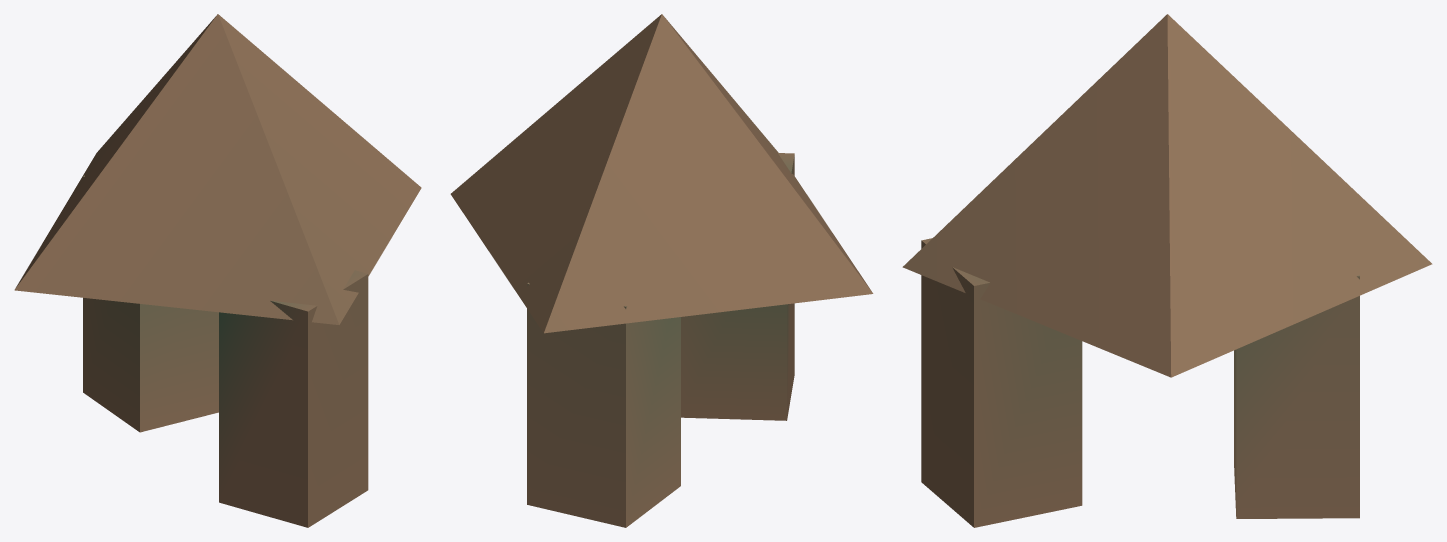
The picture shows the model from 3 angles, left to right: view 1: azimuth 30°, elevation 25°; view 2: azimuth 150°, elevation 25°; view 3: azimuth 270°, elevation 25°; orthographic projection. The views are drawn at different scales.
Parts seen in each view (by area): view 1: cap, post, post.001; view 2: cap, post.001, post; view 3: cap, post, post.001.
Part boxes in pixels (x1,y1,x2,y2): cap: (14,14,421,324); post: (219,270,368,527); post.001: (83,175,218,432); cap: (450,14,873,333); post.001: (527,282,680,527); post: (681,153,794,420); cap: (902,14,1432,377); post: (921,238,1082,527); post.001: (1234,275,1359,518).
Size of the model in its own units: 0.3 by 0.299 by 0.3.
